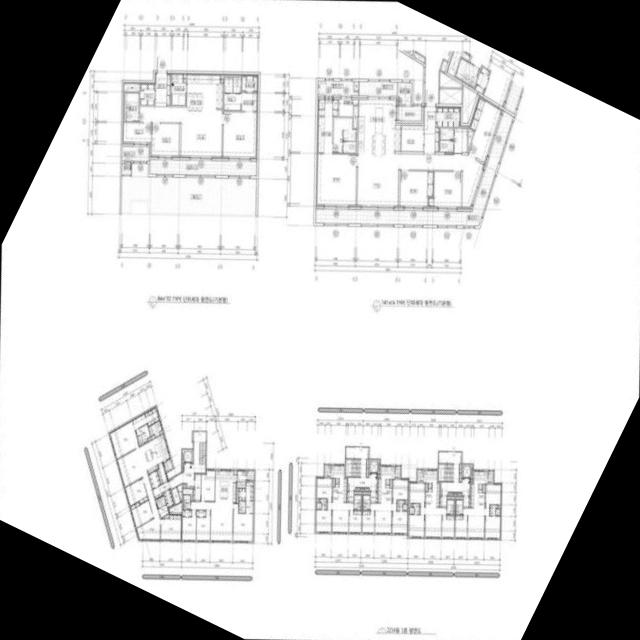background: (0, 0, 640, 640)
space_balconi: (315, 110, 513, 225), (150, 159, 257, 175), (318, 81, 358, 95), (359, 81, 397, 95), (122, 146, 149, 161), (163, 459, 173, 471), (246, 470, 254, 480)
space_bedroom: (468, 95, 502, 163), (316, 154, 356, 206), (223, 111, 257, 158), (400, 170, 433, 207), (428, 171, 461, 208), (109, 420, 139, 459), (150, 123, 179, 157), (233, 503, 253, 541), (124, 478, 148, 506), (129, 500, 153, 528), (122, 123, 151, 144), (401, 125, 423, 151), (160, 514, 181, 540), (200, 469, 215, 500), (196, 510, 210, 541), (182, 510, 196, 540), (316, 477, 332, 501), (485, 483, 501, 507), (409, 482, 425, 506), (392, 478, 408, 502), (408, 514, 424, 537), (484, 516, 500, 538), (315, 510, 331, 532), (392, 511, 407, 533), (348, 510, 361, 533), (441, 515, 454, 537), (455, 515, 467, 538), (362, 511, 374, 533), (196, 510, 205, 516), (182, 510, 191, 516)
space_dressroom: (317, 117, 332, 152), (317, 97, 338, 116), (144, 406, 159, 426), (241, 93, 258, 110), (242, 74, 258, 91), (245, 481, 253, 500), (238, 488, 245, 500)
space_elevator: (369, 460, 379, 473), (462, 465, 472, 478), (182, 450, 192, 462)
space_elevator_hall: (169, 431, 205, 489), (438, 452, 469, 495), (346, 447, 377, 490)
space_front: (423, 106, 439, 154), (154, 73, 170, 106), (436, 106, 460, 126), (140, 83, 154, 105), (152, 481, 169, 498), (163, 489, 174, 508), (149, 470, 160, 488), (193, 474, 200, 501), (370, 491, 377, 502), (463, 496, 470, 507), (347, 491, 353, 502), (440, 496, 446, 506)
space_kitchen: (358, 98, 400, 156), (186, 73, 222, 110), (140, 433, 170, 473), (215, 470, 237, 502), (470, 470, 488, 508), (423, 469, 440, 507), (378, 465, 395, 503), (330, 465, 347, 502)
space_living_room: (357, 154, 484, 208), (139, 106, 222, 158), (117, 447, 160, 540), (190, 501, 232, 541), (420, 507, 446, 537), (463, 508, 489, 538), (370, 503, 396, 533), (327, 502, 353, 532)
space_multipurpose_space: (171, 73, 185, 105), (339, 97, 358, 116)
space_other: (416, 50, 451, 103), (462, 85, 477, 123), (439, 71, 462, 87), (398, 105, 421, 121), (439, 88, 462, 104), (156, 462, 167, 484), (148, 420, 162, 437), (237, 470, 246, 487), (171, 487, 180, 504), (123, 82, 139, 91), (169, 502, 181, 512), (414, 52, 424, 63), (183, 488, 192, 500), (468, 128, 473, 149), (353, 106, 358, 127), (177, 484, 182, 501), (440, 60, 447, 72), (147, 435, 155, 440), (354, 81, 358, 90), (459, 464, 461, 481), (366, 460, 368, 476), (183, 73, 186, 82), (220, 74, 223, 82), (455, 496, 463, 499), (362, 491, 370, 494), (162, 514, 168, 518), (354, 491, 361, 494), (447, 496, 454, 499), (390, 479, 392, 487), (181, 464, 183, 472), (332, 478, 334, 486), (425, 483, 427, 491), (159, 430, 163, 434), (483, 484, 485, 492), (237, 488, 238, 502), (457, 492, 461, 495), (182, 484, 186, 487), (234, 470, 237, 474), (453, 492, 457, 495), (364, 488, 369, 490), (405, 500, 408, 503), (498, 505, 501, 508), (360, 488, 364, 490), (448, 492, 452, 494), (355, 488, 359, 490), (409, 503, 411, 506), (316, 498, 318, 501), (470, 479, 472, 481), (377, 475, 379, 476)
space_outdoor_room: (398, 82, 411, 104), (122, 163, 131, 174), (324, 464, 329, 477), (488, 470, 493, 483), (395, 466, 400, 478), (417, 469, 422, 481)
space_staircase: (345, 459, 361, 476), (438, 464, 453, 481), (199, 442, 205, 464)
space_toilet: (333, 117, 356, 152), (124, 93, 139, 121), (453, 128, 467, 152), (135, 424, 150, 445), (224, 93, 240, 110), (132, 413, 146, 429), (232, 77, 241, 93), (440, 140, 453, 151), (440, 128, 453, 139), (158, 504, 168, 517), (224, 77, 232, 92), (447, 499, 454, 514), (354, 495, 361, 509), (455, 500, 462, 514), (183, 495, 190, 509), (363, 495, 370, 509), (245, 501, 253, 513), (319, 498, 327, 509), (412, 503, 420, 514), (397, 500, 404, 510), (490, 505, 497, 515), (156, 497, 162, 508), (160, 495, 166, 506), (238, 501, 245, 506), (238, 507, 245, 512), (402, 504, 407, 510), (317, 502, 321, 509), (495, 508, 499, 515), (410, 507, 414, 514)
